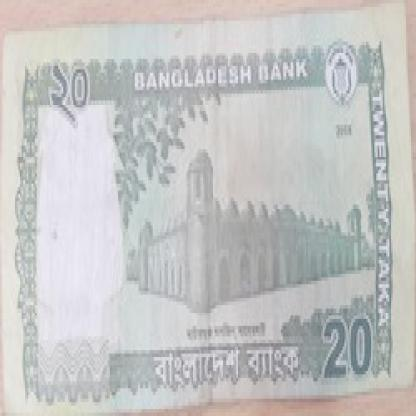Twenty: (314, 309, 374, 382), (45, 59, 96, 142)
